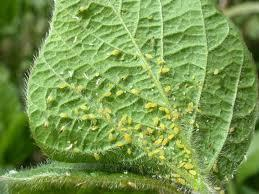Insects: (106, 125, 119, 146), (158, 63, 174, 76), (143, 102, 157, 115), (175, 176, 189, 189), (79, 101, 92, 115), (132, 121, 146, 133), (123, 131, 134, 146), (120, 111, 130, 126), (91, 151, 102, 164), (108, 47, 121, 58), (175, 137, 185, 151), (162, 84, 173, 96), (112, 88, 125, 98), (151, 115, 161, 128), (171, 125, 181, 138), (187, 168, 198, 179), (161, 136, 171, 148), (143, 51, 155, 61), (126, 146, 135, 158), (103, 90, 112, 101)
